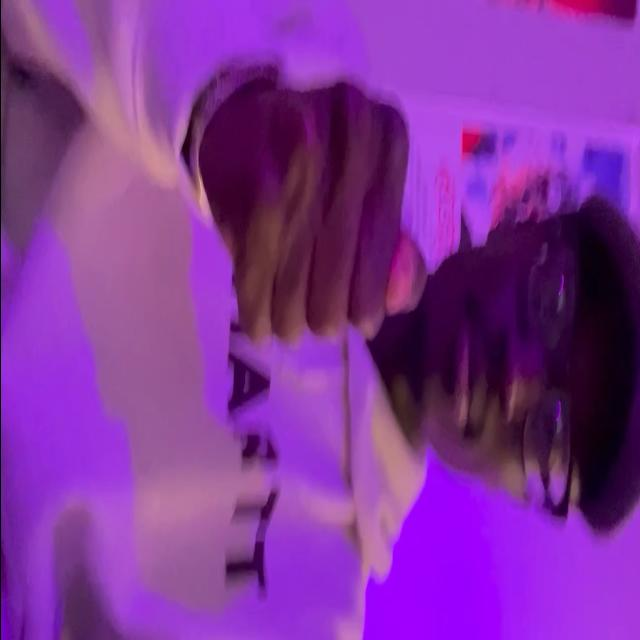Rock: (210, 75, 428, 342)
